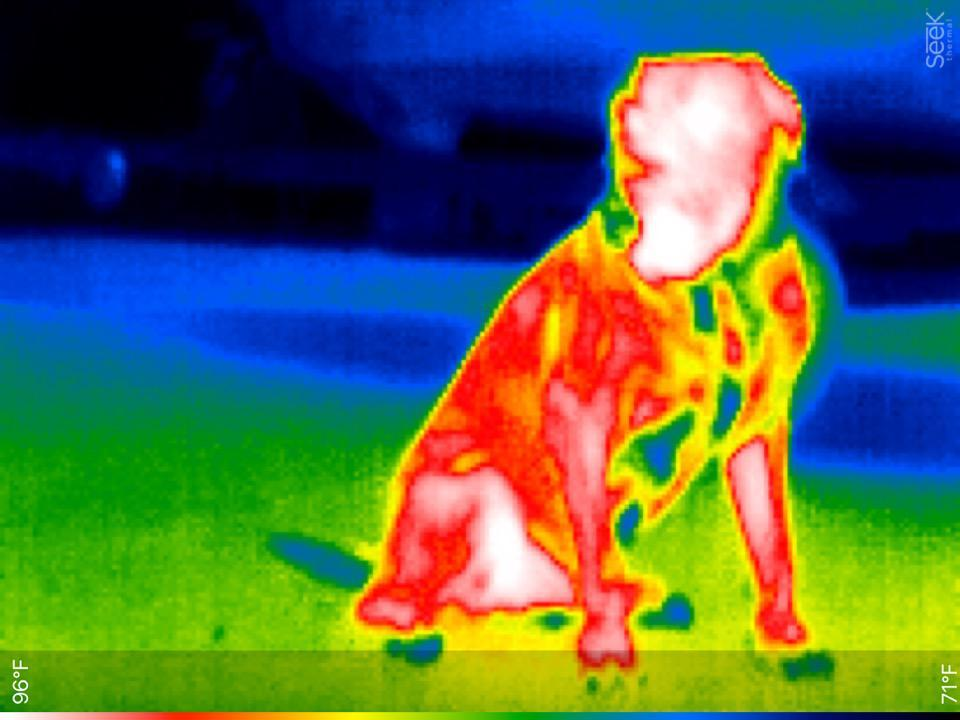dog: (345, 46, 842, 680)
